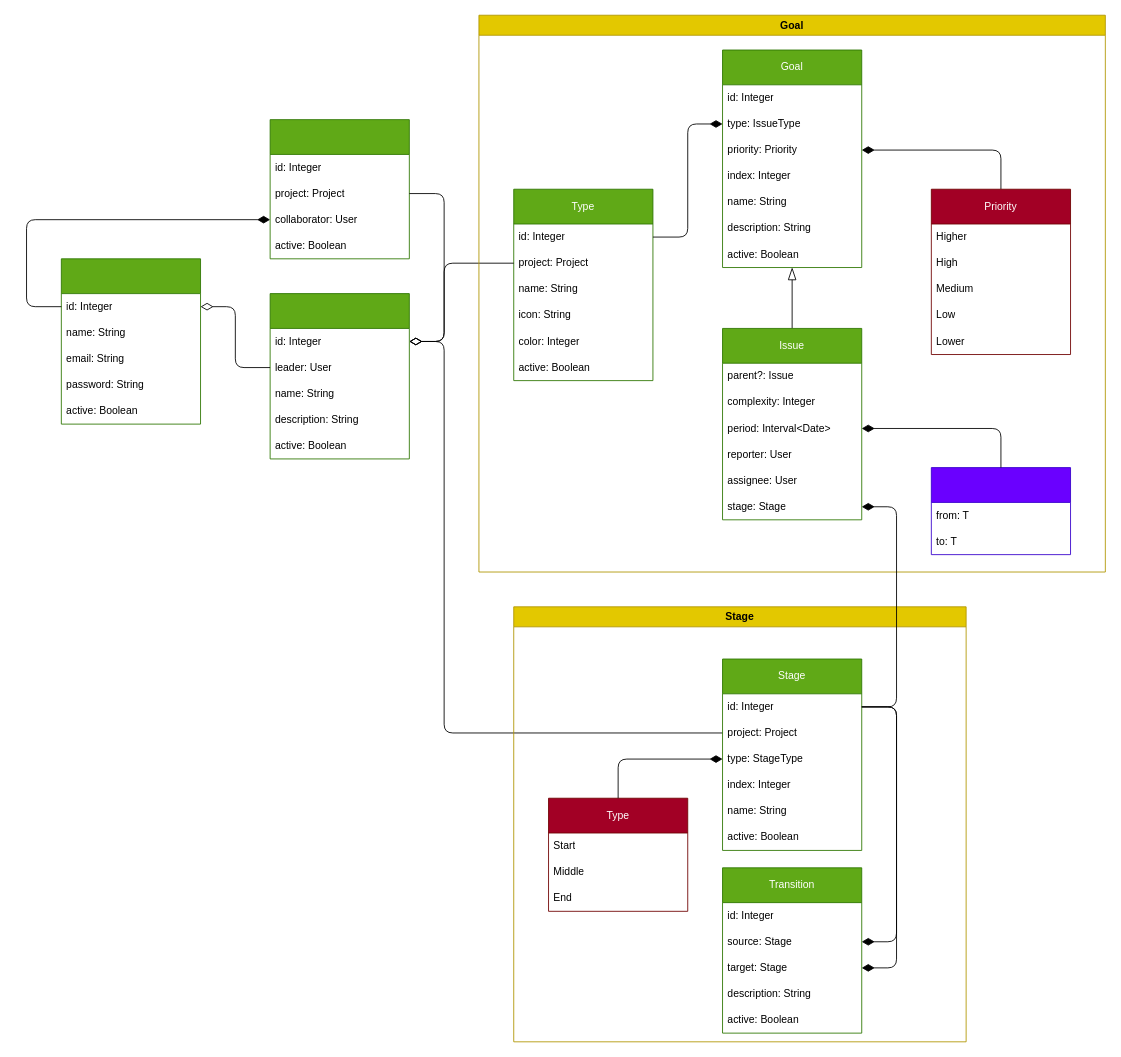
Some shapes in this 1121 by 1057 pixel diagram are drawn without their labels. Here are the shapes that lost their labels. From the top down, the box of each, then its label:
(269, 119, 409, 259): Collaboration
(60, 258, 201, 424): User
(269, 293, 409, 459): Project
(930, 467, 1071, 555): Interval<T>
